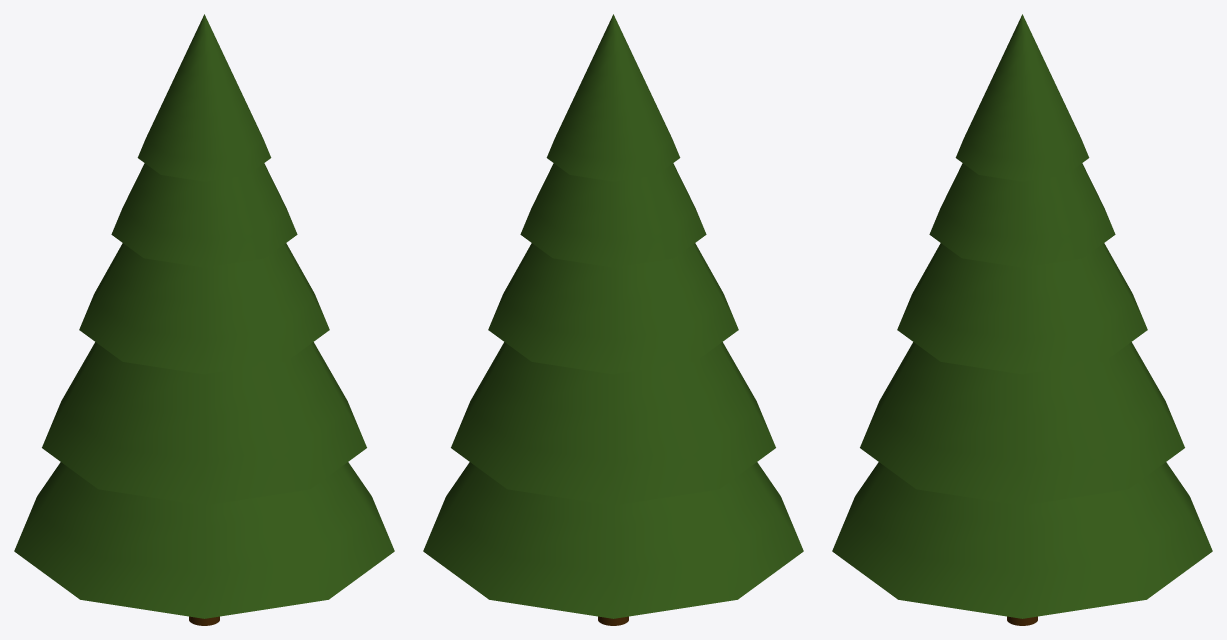
File: Pine001.fbx
3 renders of one model, left to right at view 1: azimuth 30°, elevation 25°; view 2: azimuth 150°, elevation 25°; view 3: azimuth 270°, elevation 25°, orthographic.
Visible parts, largest first — view 1: Cone_1, Cone_2, Cone_3, Cone_4, Cone_5; view 2: Cone_1, Cone_2, Cone_3, Cone_4, Cone_5; view 3: Cone_1, Cone_2, Cone_3, Cone_4, Cone_5.
Boxes of the visible parts, bbox=[...] form: Cone_1: bbox=[14, 462, 394, 618]; Cone_2: bbox=[42, 342, 366, 505]; Cone_3: bbox=[79, 243, 329, 374]; Cone_4: bbox=[111, 163, 297, 267]; Cone_5: bbox=[137, 14, 271, 181]; Cone_1: bbox=[423, 462, 803, 618]; Cone_2: bbox=[451, 342, 775, 505]; Cone_3: bbox=[488, 243, 738, 374]; Cone_4: bbox=[520, 163, 706, 267]; Cone_5: bbox=[546, 14, 680, 181]; Cone_1: bbox=[832, 462, 1212, 618]; Cone_2: bbox=[860, 342, 1184, 505]; Cone_3: bbox=[897, 243, 1147, 374]; Cone_4: bbox=[929, 163, 1115, 267]; Cone_5: bbox=[955, 14, 1089, 181].
Bounding box in the file's own units: 239 × 426 × 243.
